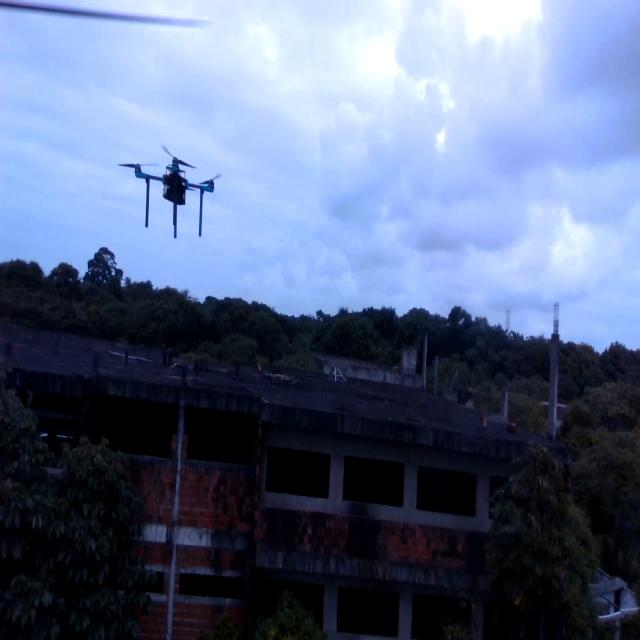-uav-: (110, 125, 228, 265)
